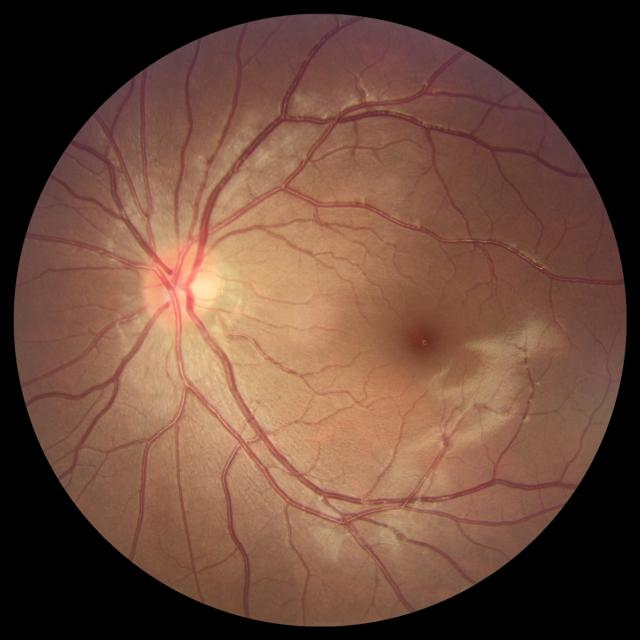OC: (168, 271, 206, 306)
OD: (141, 238, 222, 326)
